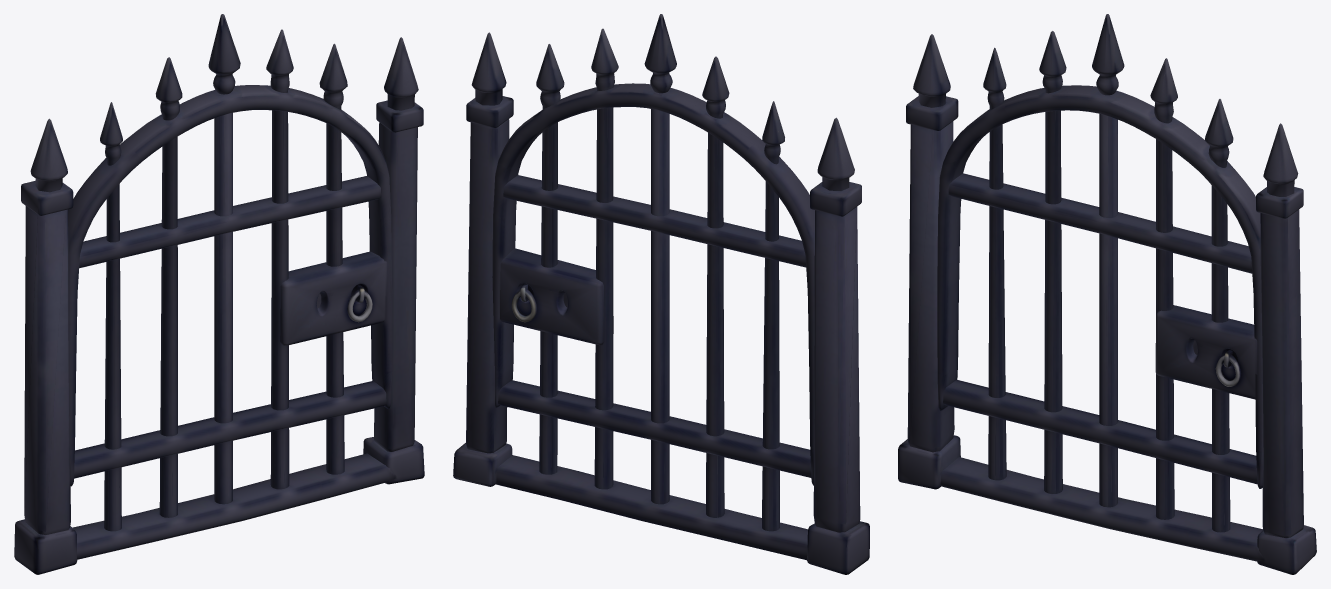
The model's file is metal_gate.fbx.
3 views of the same model, side by side, from view 1: azimuth 30°, elevation 25°; view 2: azimuth 150°, elevation 25°; view 3: azimuth 330°, elevation 25° (orthographic).
Visible parts, largest first — view 1: tripo_part_2, tripo_part_11, tripo_part_18; view 2: tripo_part_2, tripo_part_11, tripo_part_18; view 3: tripo_part_2, tripo_part_18, tripo_part_11.
Part boxes in pixels (<box>): tripo_part_2: <box>68,14,396,559</box>; tripo_part_11: <box>14,118,77,574</box>; tripo_part_18: <box>363,37,424,484</box>; tripo_part_2: <box>492,14,814,560</box>; tripo_part_11: <box>807,117,869,574</box>; tripo_part_18: <box>453,32,513,486</box>; tripo_part_2: <box>937,14,1265,561</box>; tripo_part_18: <box>1256,123,1316,574</box>; tripo_part_11: <box>898,34,960,489</box>.
Size of the model in its own units: 0.813 by 0.9995 by 0.1001.
Materials: 5 (5 with a texture image).
